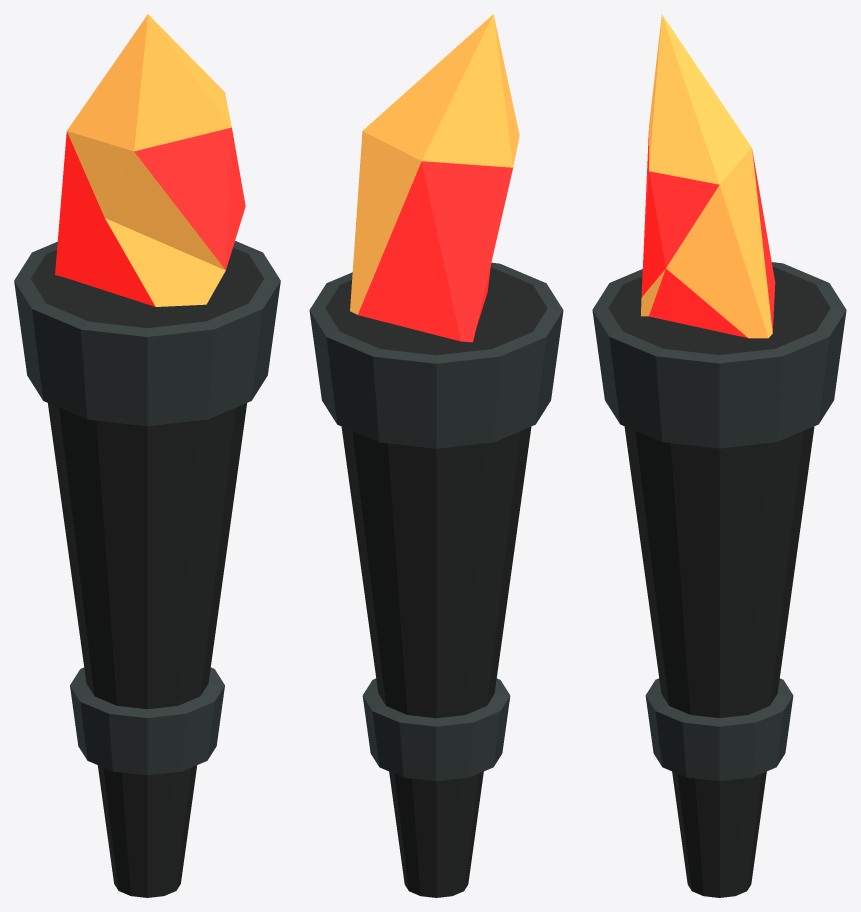
File: Torch_4_Black.fbx
The picture shows the model from 3 angles, left to right: view 1: azimuth 30°, elevation 25°; view 2: azimuth 150°, elevation 25°; view 3: azimuth 270°, elevation 25°; orthographic projection. The views are drawn at different scales.
Parts seen in each view (by area): view 1: Torch_4_Black_Part_1, Torch_4_Black_Part_2, Torch_4_Black_Part_4, Torch_4_Black_Part_3; view 2: Torch_4_Black_Part_1, Torch_4_Black_Part_2, Torch_4_Black_Part_4, Torch_4_Black_Part_3; view 3: Torch_4_Black_Part_1, Torch_4_Black_Part_2, Torch_4_Black_Part_4, Torch_4_Black_Part_3.
Boxes of the visible parts, bbox=[...] form: Torch_4_Black_Part_1: bbox=[31, 247, 263, 897]; Torch_4_Black_Part_2: bbox=[14, 241, 280, 775]; Torch_4_Black_Part_4: bbox=[67, 14, 231, 306]; Torch_4_Black_Part_3: bbox=[55, 127, 245, 306]; Torch_4_Black_Part_1: bbox=[325, 267, 547, 897]; Torch_4_Black_Part_2: bbox=[309, 262, 563, 781]; Torch_4_Black_Part_4: bbox=[350, 14, 519, 314]; Torch_4_Black_Part_3: bbox=[358, 161, 512, 342]; Torch_4_Black_Part_1: bbox=[608, 267, 830, 897]; Torch_4_Black_Part_2: bbox=[592, 262, 846, 781]; Torch_4_Black_Part_4: bbox=[641, 14, 772, 338]; Torch_4_Black_Part_3: bbox=[641, 131, 775, 337].
Size of the model in its own units: 15.98 by 59.45 by 15.98.
